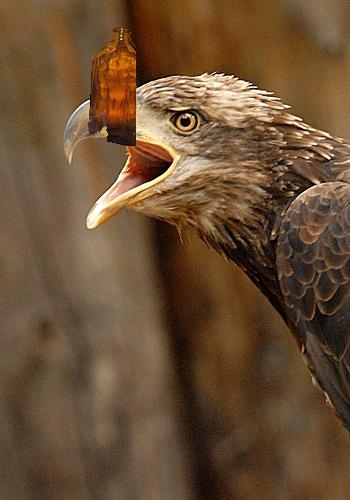tampered: (89, 28, 136, 146)
